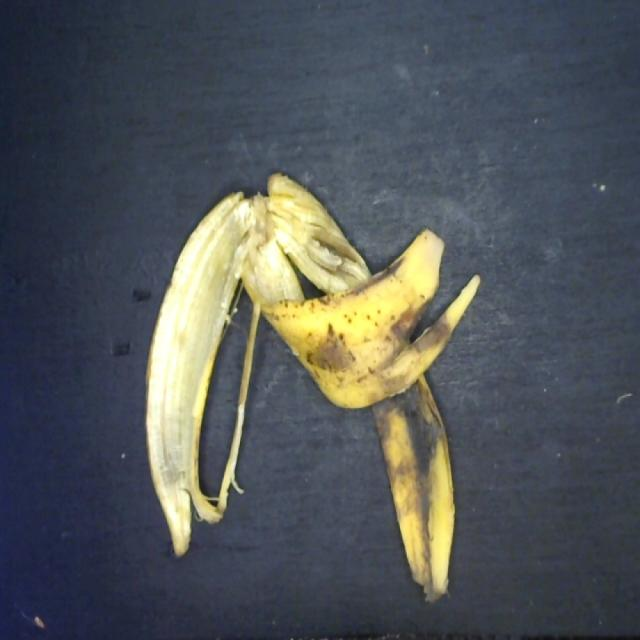biodegradable: (139, 169, 485, 606)
